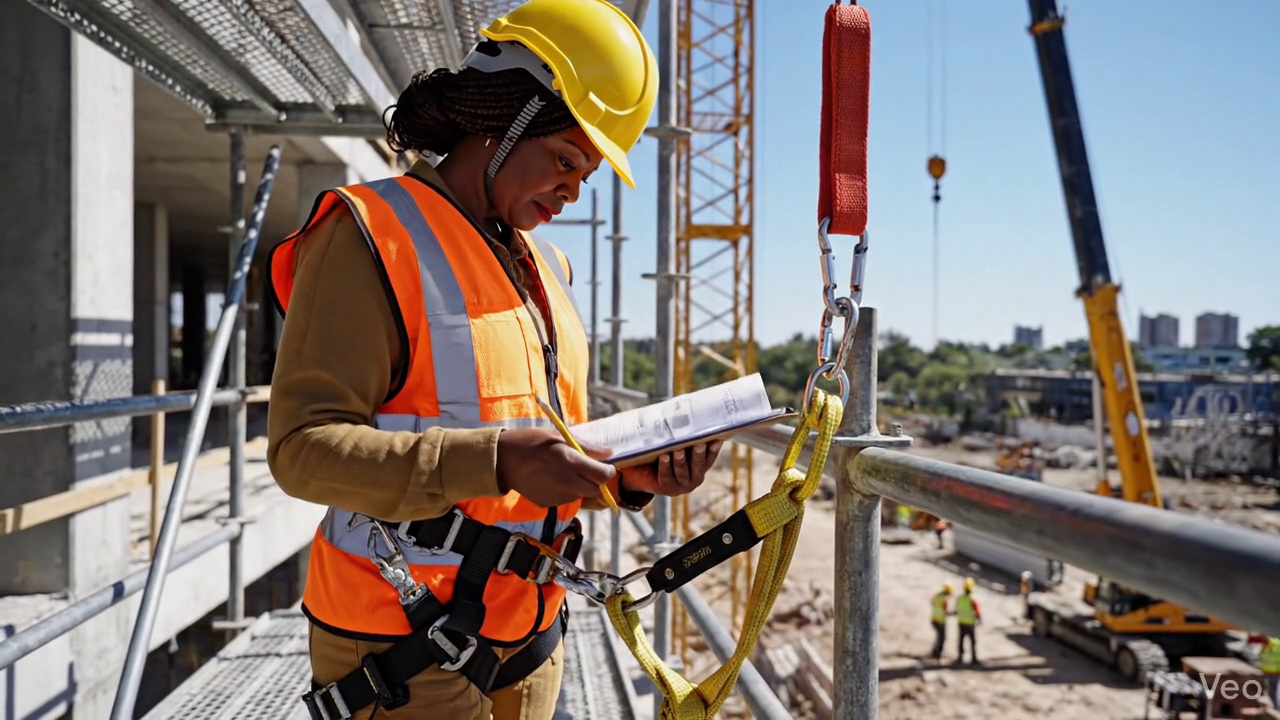p: (268, 0, 720, 719), (599, 452, 605, 455)
